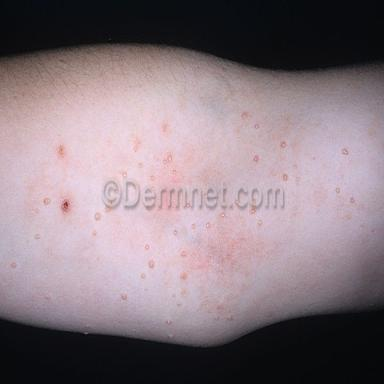Molluscum-Contagiosum: (43, 197, 50, 205), (95, 212, 101, 220), (342, 148, 348, 155), (253, 155, 259, 162), (149, 260, 154, 268), (283, 173, 288, 181), (121, 294, 127, 300), (335, 187, 340, 194), (281, 141, 286, 148), (242, 112, 247, 119), (122, 171, 127, 178), (167, 155, 172, 162), (35, 234, 40, 240), (12, 262, 17, 268), (173, 229, 178, 235), (181, 273, 186, 279), (181, 251, 186, 257), (350, 197, 355, 203), (150, 175, 154, 182), (141, 273, 145, 279), (145, 244, 149, 250), (206, 222, 210, 228), (221, 212, 225, 218), (228, 315, 232, 321), (46, 295, 50, 301), (93, 230, 97, 235), (105, 208, 109, 213), (191, 224, 195, 229), (251, 209, 256, 213), (258, 220, 262, 225), (163, 159, 167, 164), (133, 146, 137, 151), (215, 315, 218, 321), (35, 209, 39, 213), (167, 320, 171, 324), (177, 302, 181, 306), (255, 124, 259, 128), (139, 163, 143, 167), (296, 177, 299, 181), (173, 170, 176, 174), (145, 288, 148, 291), (173, 294, 175, 297)
